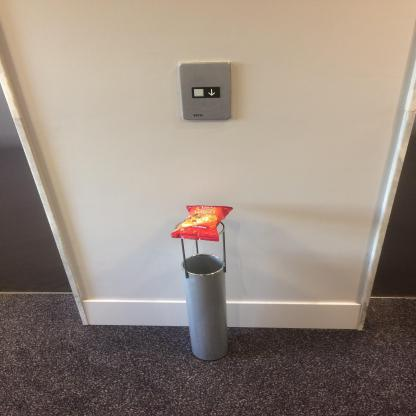plastik: (172, 206, 234, 243)
